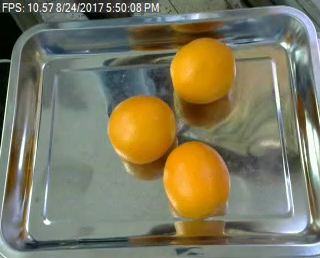Orange: (164, 140, 231, 218), (107, 94, 177, 164), (168, 37, 235, 103)
